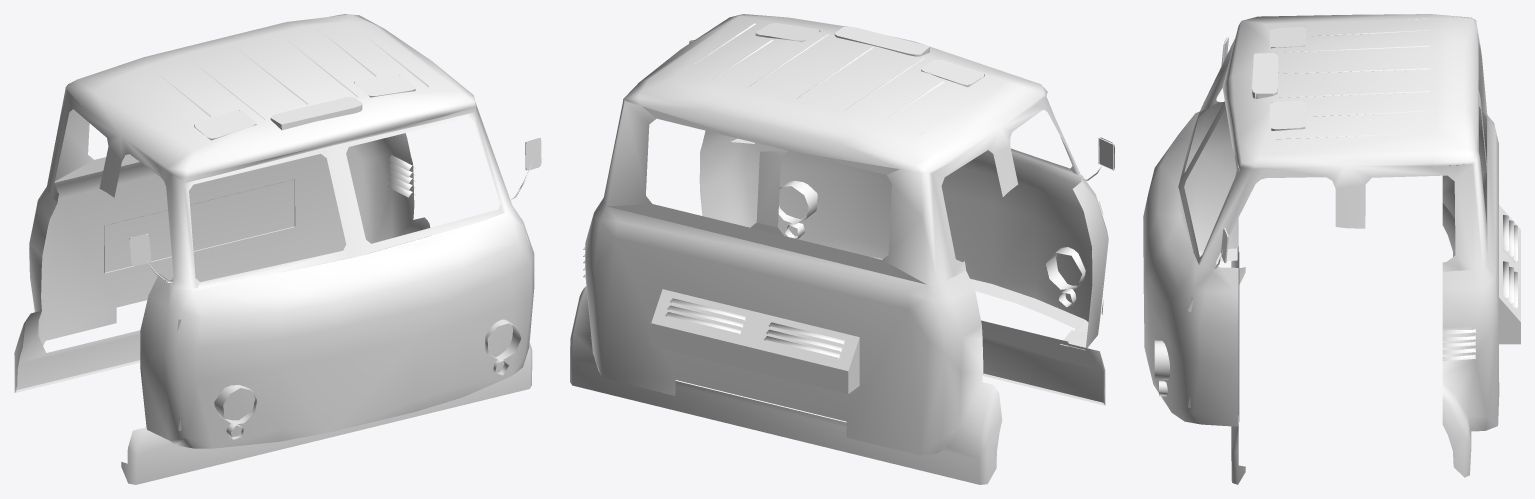
The picture shows the model from 3 angles, left to right: view 1: azimuth 30°, elevation 25°; view 2: azimuth 150°, elevation 25°; view 3: azimuth 270°, elevation 25°; orthographic projection. The views are drawn at different scales.
Bounding box in the file's own units: 3.1 × 2.3 × 2.47.
Materials: 1 (1 with a texture image).
